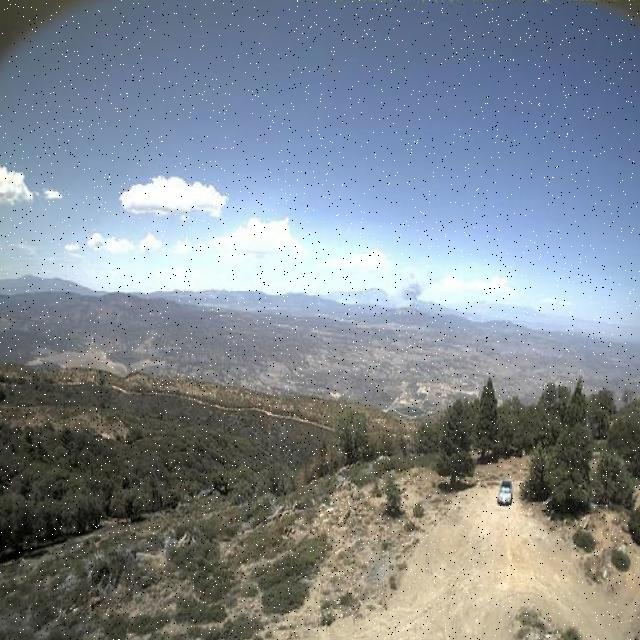smoke: (334, 269, 432, 320)
